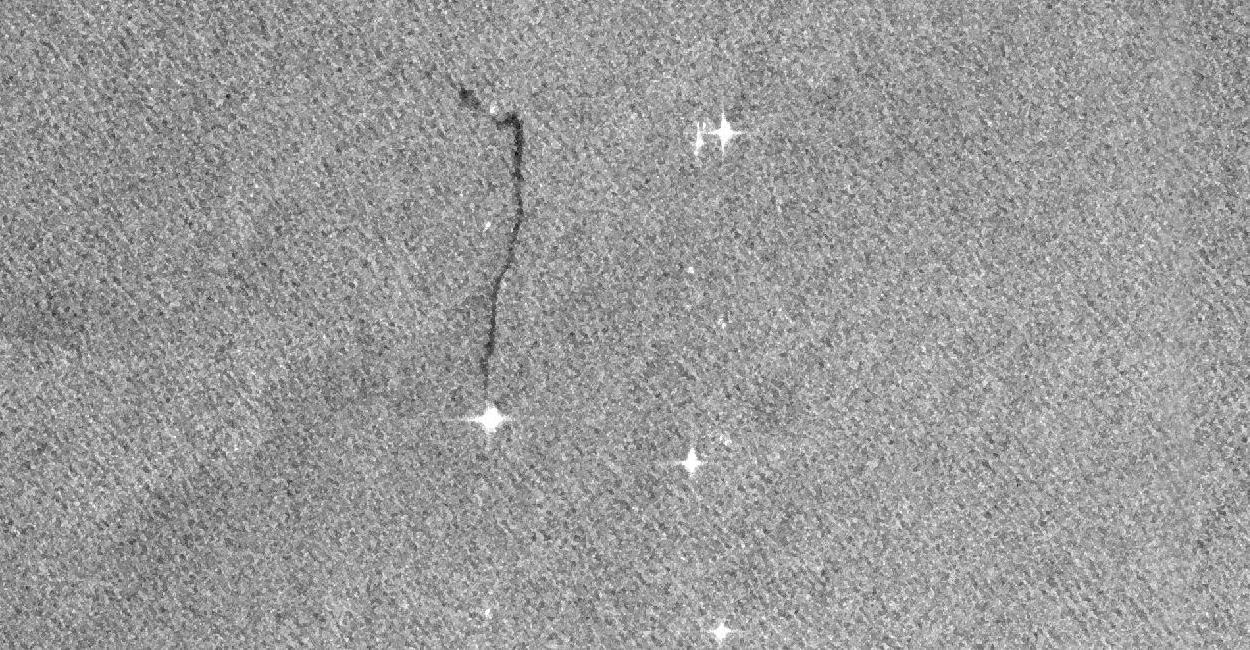Oil Spill: (472, 110, 528, 392), (510, 168, 514, 170)
